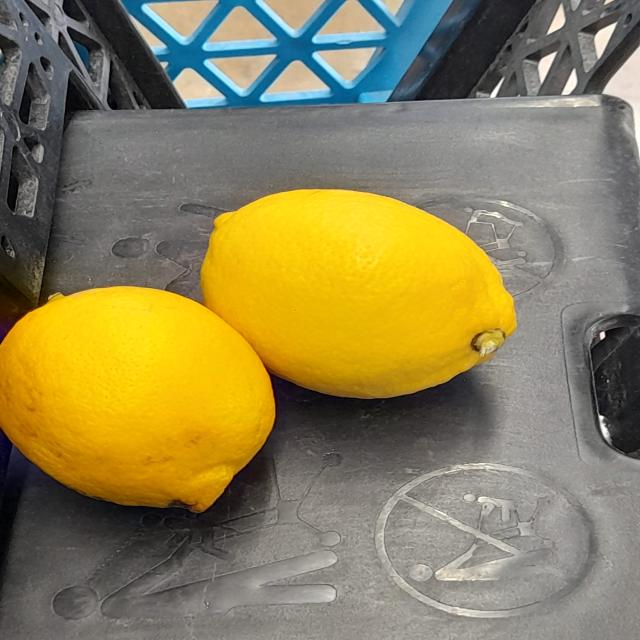lemon: (199, 177, 518, 405), (0, 285, 276, 525)
